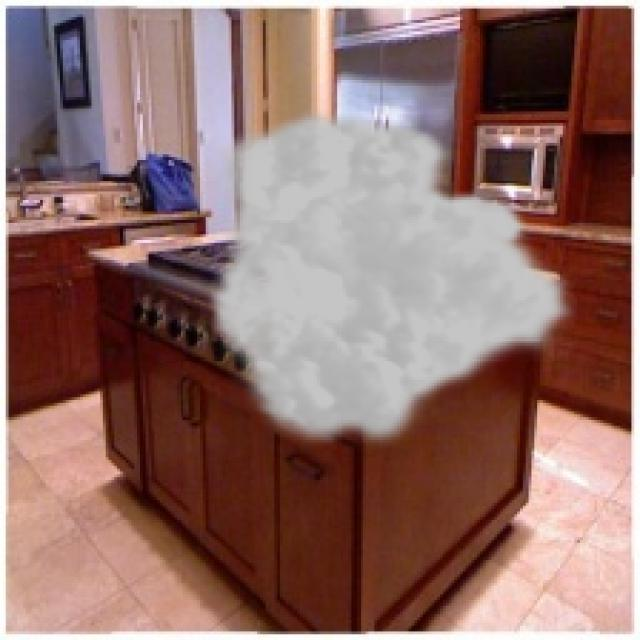Smoke: (205, 106, 580, 454)
